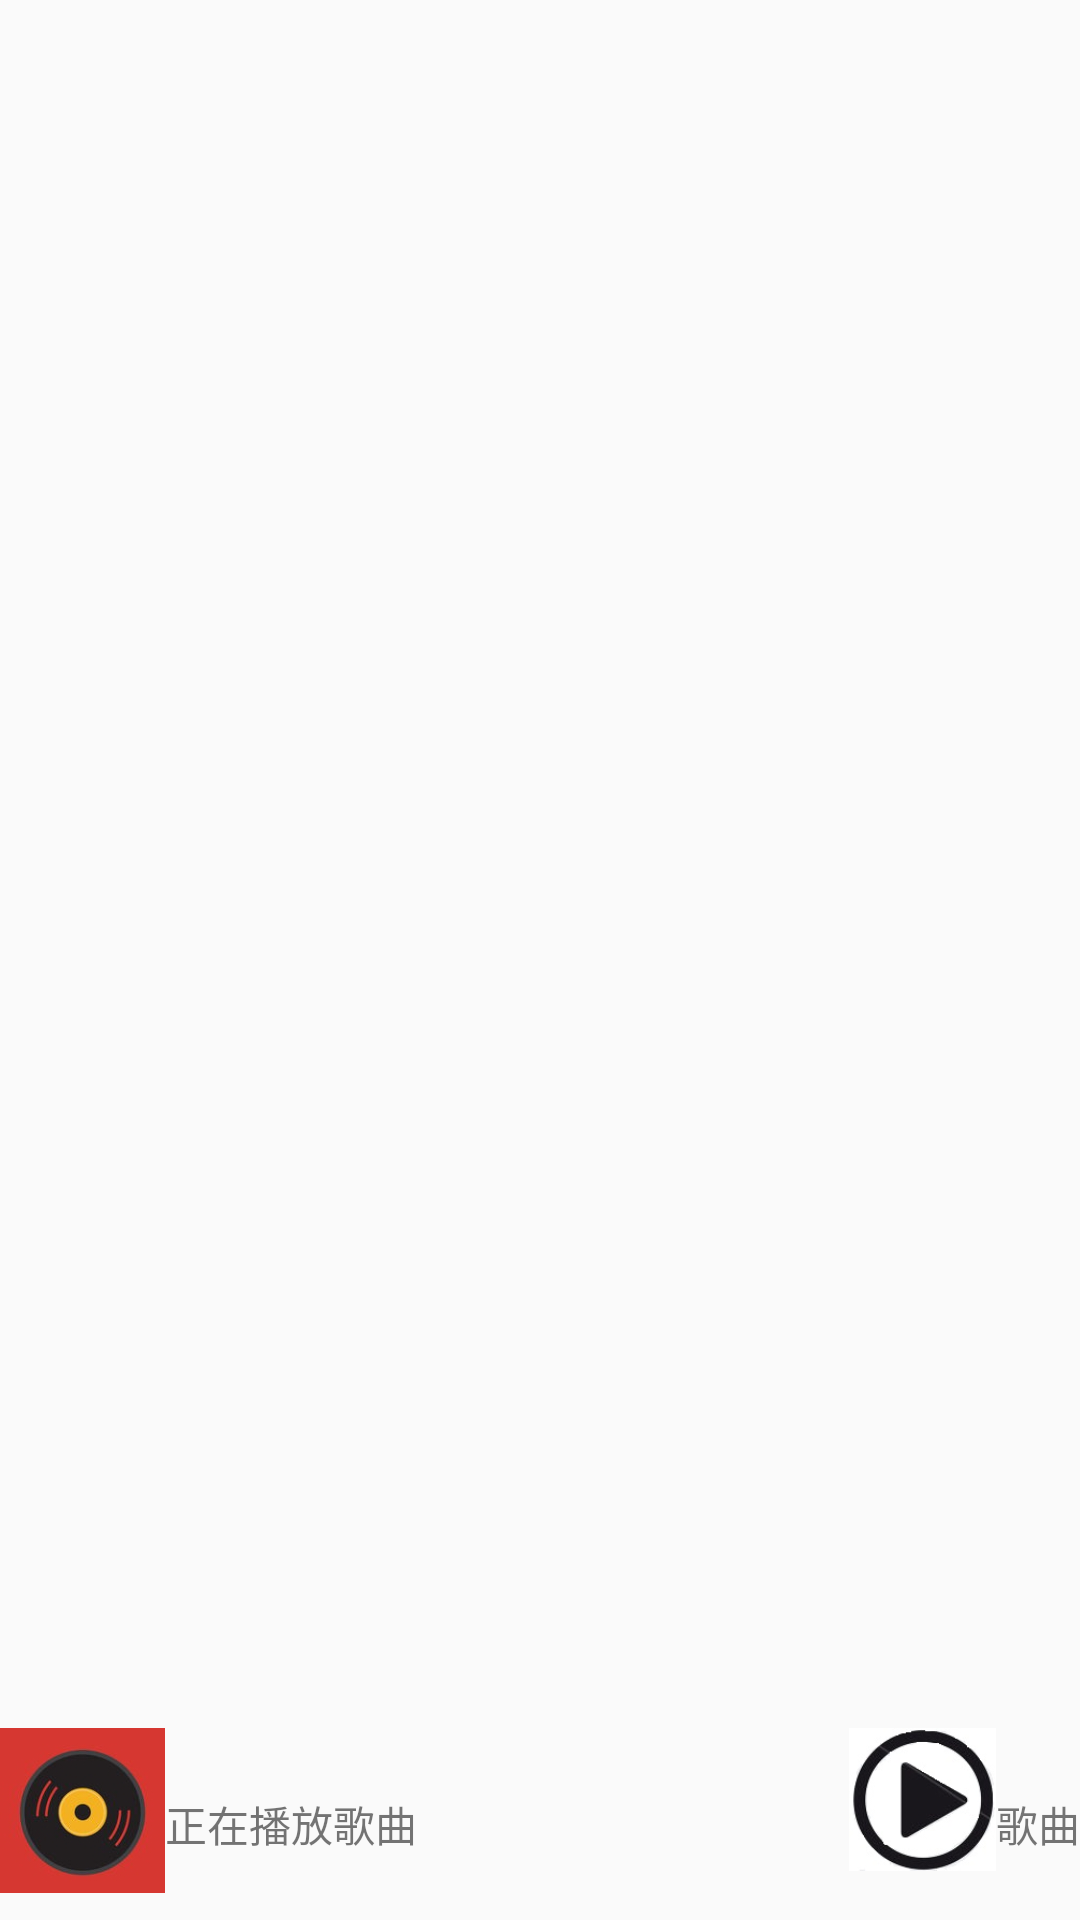

Icon click points for this 1080px x 1920px phone screenshot, format point (x, y):
record: point (82, 1810)
start: point (923, 1800)
